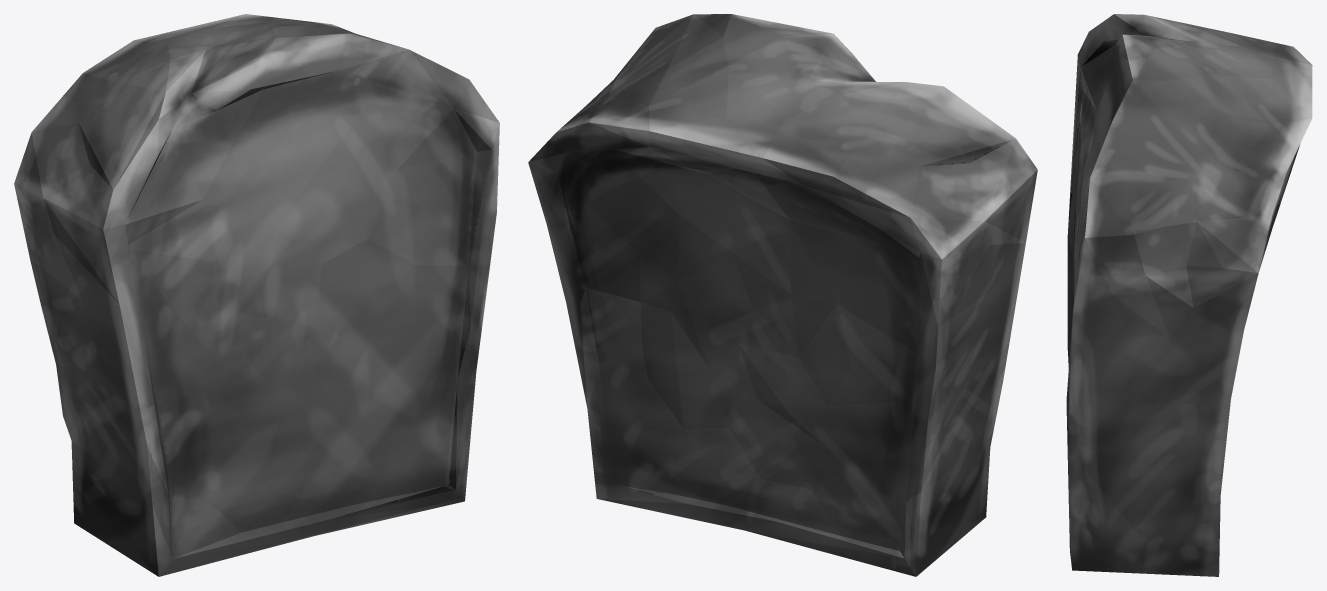
The model's file is gravestone03_c.fbx.
3 views of the same model, side by side, from view 1: azimuth 30°, elevation 25°; view 2: azimuth 150°, elevation 25°; view 3: azimuth 270°, elevation 25° (orthographic). The views are drawn at different scales.
Visible parts, largest first — view 1: Gravestone03_lp_C; view 2: Gravestone03_lp_C; view 3: Gravestone03_lp_C.
Part boxes in pixels (x1,y1,x2,y2): Gravestone03_lp_C: [14, 14, 499, 576]; Gravestone03_lp_C: [528, 14, 1037, 576]; Gravestone03_lp_C: [1066, 14, 1312, 576].
Bounding box in the file's own units: 1.03 × 0.545 × 1.12.
